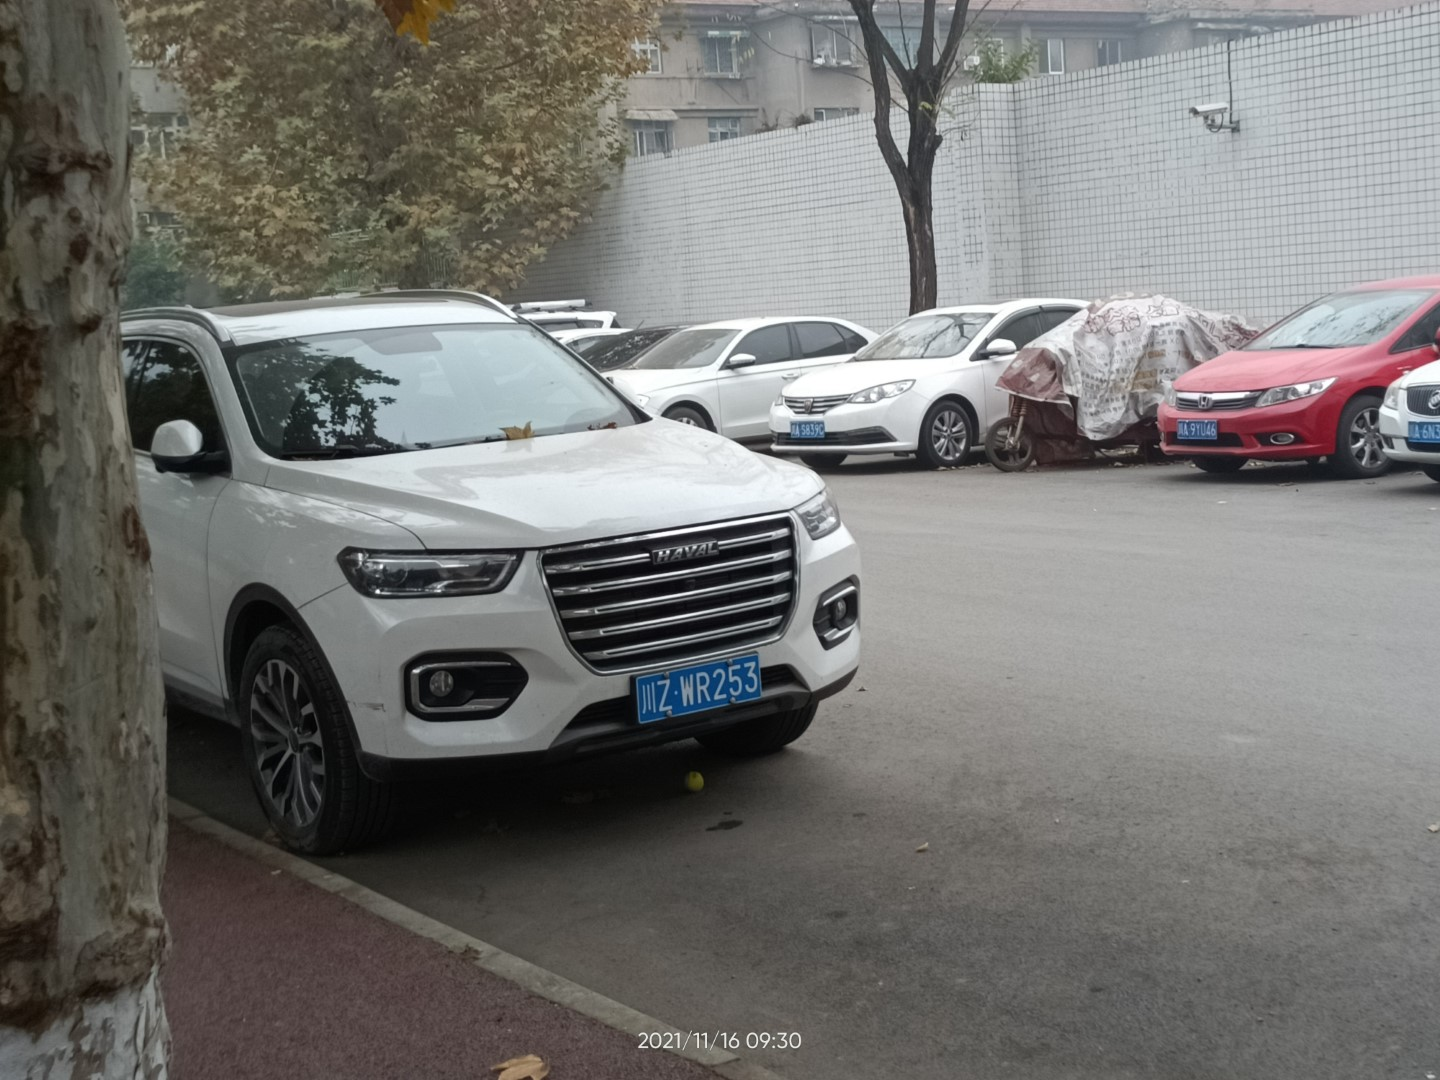plate: (636, 653, 761, 723), (1176, 419, 1218, 438), (790, 419, 825, 438)
